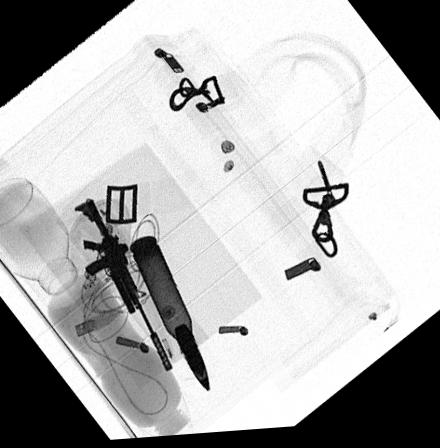Bullet: (127, 235, 210, 395)
Gun: (73, 200, 172, 375)
